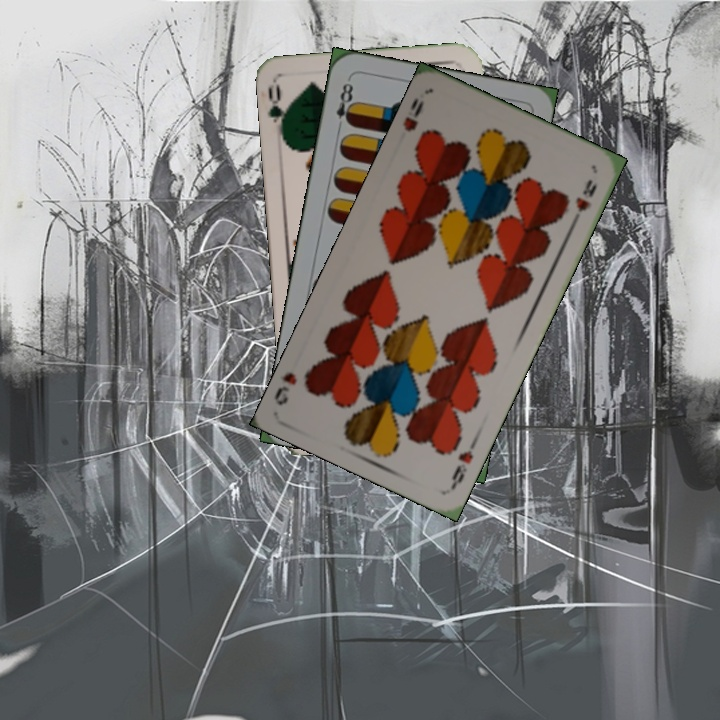E8: (332, 78, 358, 134)
GO: (264, 81, 292, 140)
H9: (447, 435, 479, 491), (399, 93, 427, 134)
